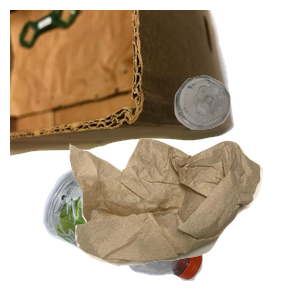cardboard: (10, 10, 237, 158)
glass: (172, 73, 300, 195)
plastic: (40, 165, 235, 300)
trash: (67, 136, 300, 300)
